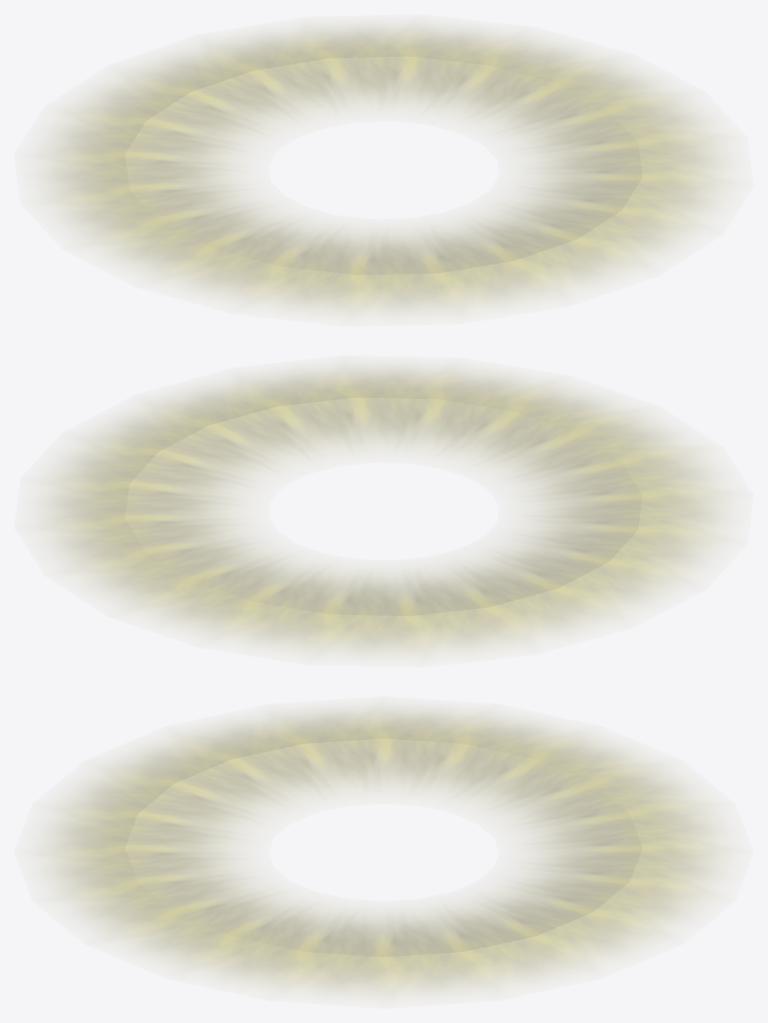
File: mist02-art.glb
3 views of the same model, one above another, from view 1: azimuth 30°, elevation 25°; view 2: azimuth 150°, elevation 25°; view 3: azimuth 270°, elevation 25° (orthographic).
Parts seen in each view (by area): view 1: Mist02_Art; view 2: Mist02_Art; view 3: Mist02_Art.
Part boxes in pixels (x1=…): Mist02_Art: x1=36, y1=23, x2=731, y2=316; Mist02_Art: x1=36, y1=364, x2=731, y2=657; Mist02_Art: x1=36, y1=705, x2=731, y2=998.
Size of the model in its own units: 2.4 by 0.0164 by 2.4.
Materials: 1 (1 with a texture image).
